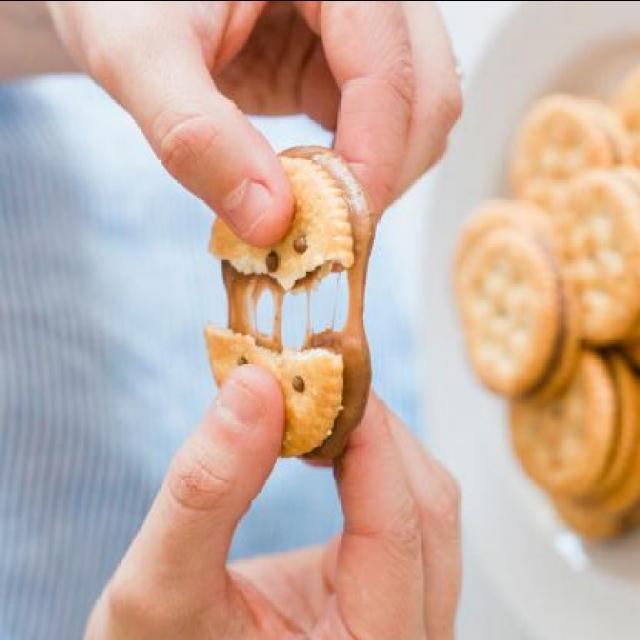Ritz cracker packaged: (190, 147, 382, 475)
